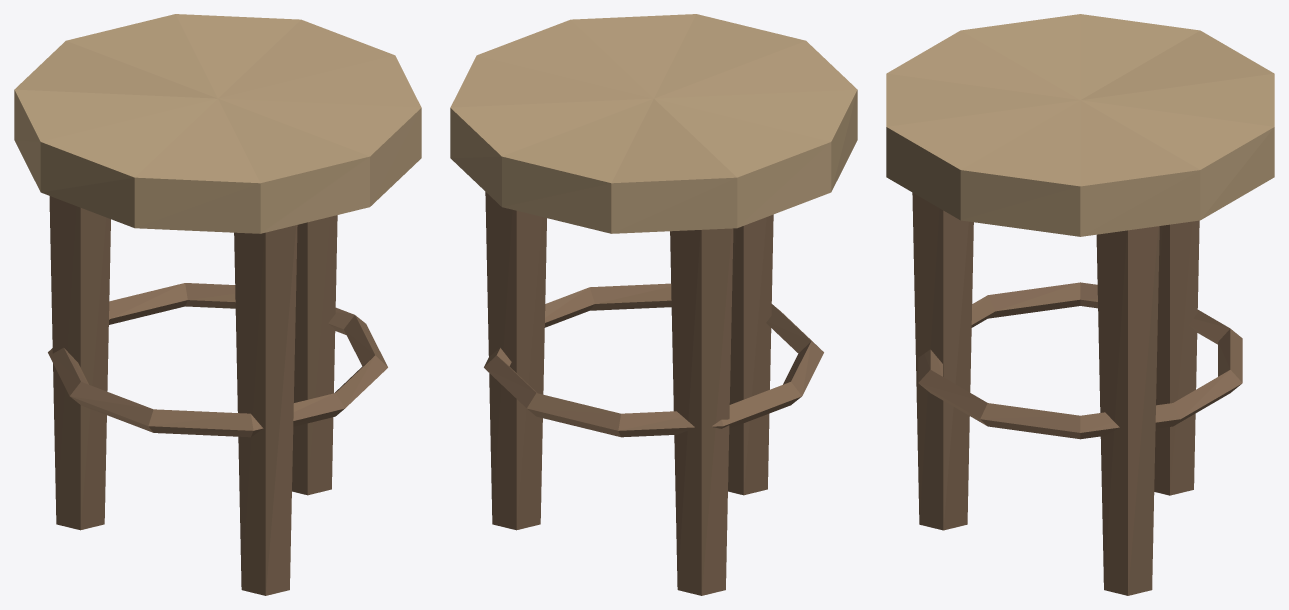
Rendered from stool.glb.
3 renders of one model, left to right at view 1: azimuth 30°, elevation 25°; view 2: azimuth 150°, elevation 25°; view 3: azimuth 270°, elevation 25°, orthographic.
Visible parts, largest first — view 1: stool; view 2: stool; view 3: stool.
Part boxes in pixels (<box>): stool: <box>14,14,421,595</box>; stool: <box>450,14,857,595</box>; stool: <box>886,14,1274,595</box>.
Size of the model in its own units: 0.44 by 0.51 by 0.4185.
